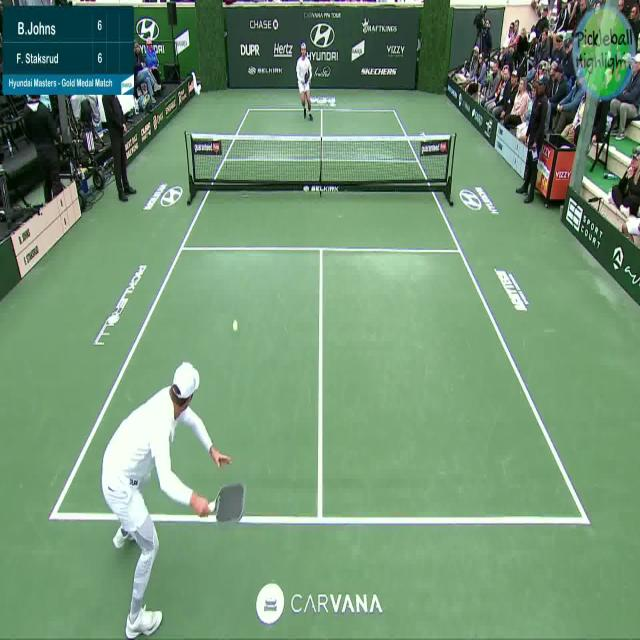ball: (231, 318, 240, 334)
